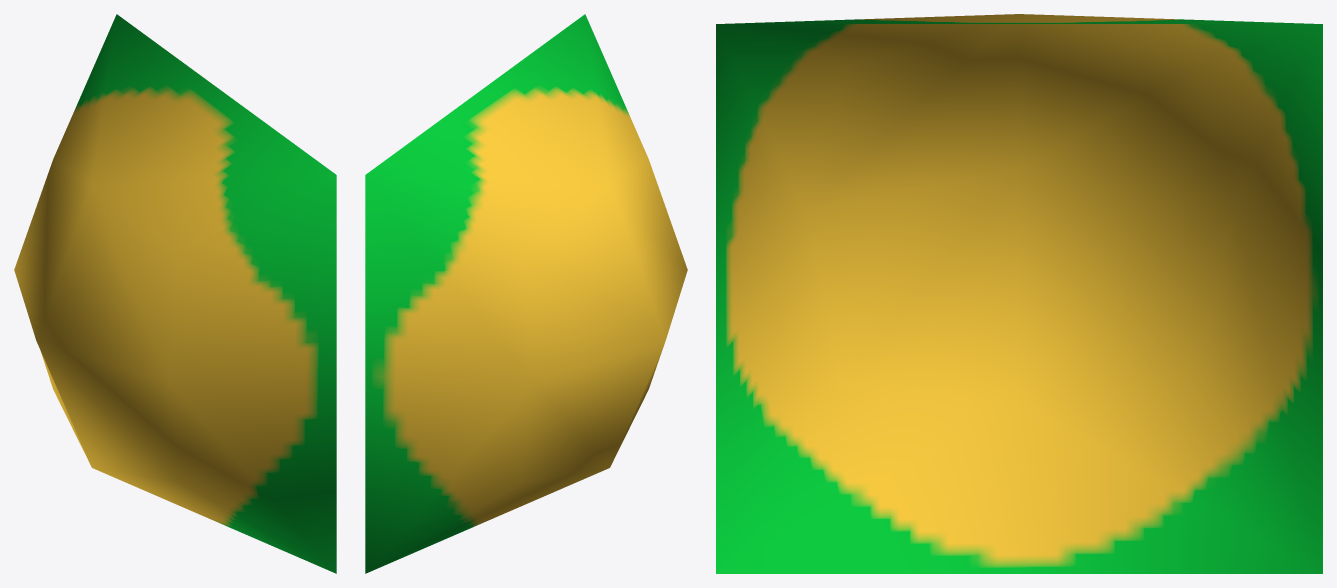
The model's file is p_mesh_trashbot_foam_plane.fbx.
The picture shows the model from 3 angles, left to right: view 1: azimuth 30°, elevation 25°; view 2: azimuth 150°, elevation 25°; view 3: azimuth 270°, elevation 25°; orthographic projection. The views are drawn at different scales.
Visible parts, largest first — view 1: Cube.002; view 2: Cube.002; view 3: Cube.002.
Part boxes in pixels (x1,y1,x2,y2): Cube.002: (14, 14, 336, 573); Cube.002: (365, 14, 687, 573); Cube.002: (716, 14, 1322, 573).
Size of the model in its own units: 0.501 by 1 by 1.
